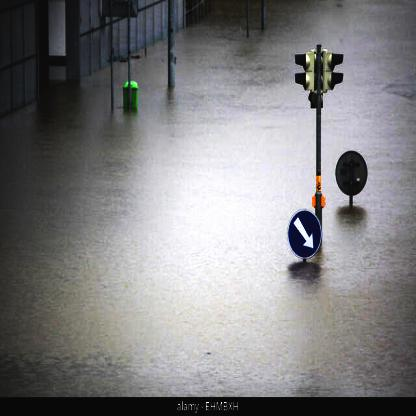Keep right: (290, 210, 324, 262)
